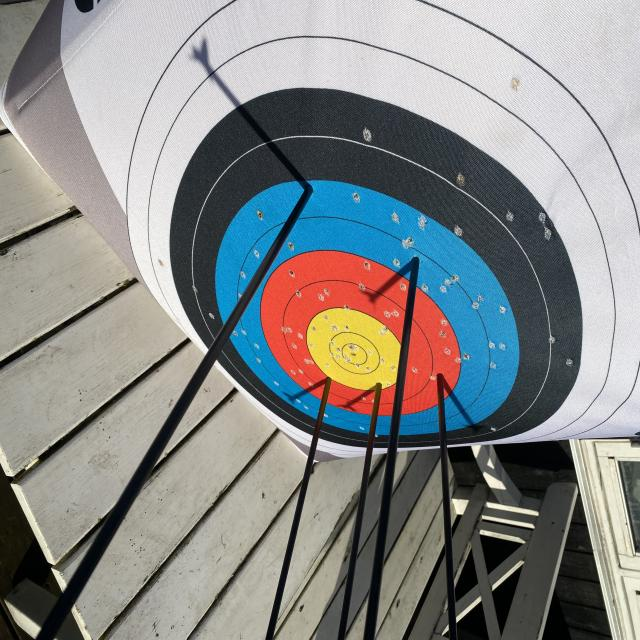Arrow_Blue: (289, 172, 321, 212), (402, 248, 435, 278)
Arrow_Red: (429, 364, 452, 394), (315, 366, 337, 390)
Arrow_Yellow: (362, 365, 390, 406)
